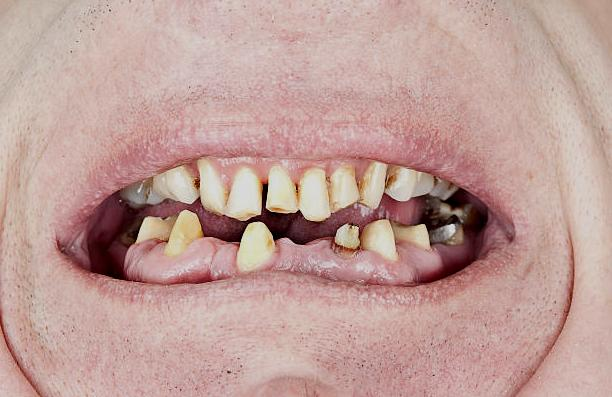Calculus: (376, 165, 398, 190), (350, 169, 368, 198)
Caries: (424, 217, 461, 246)
